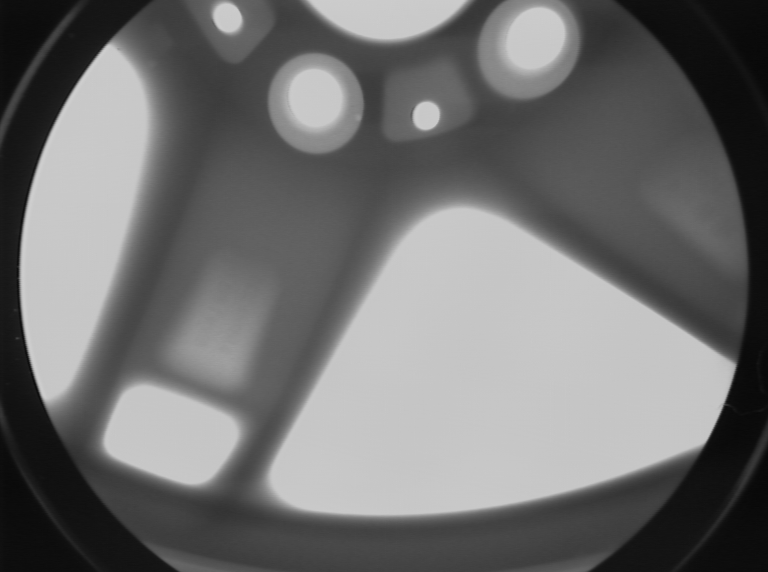defect: (353, 111, 366, 124)
